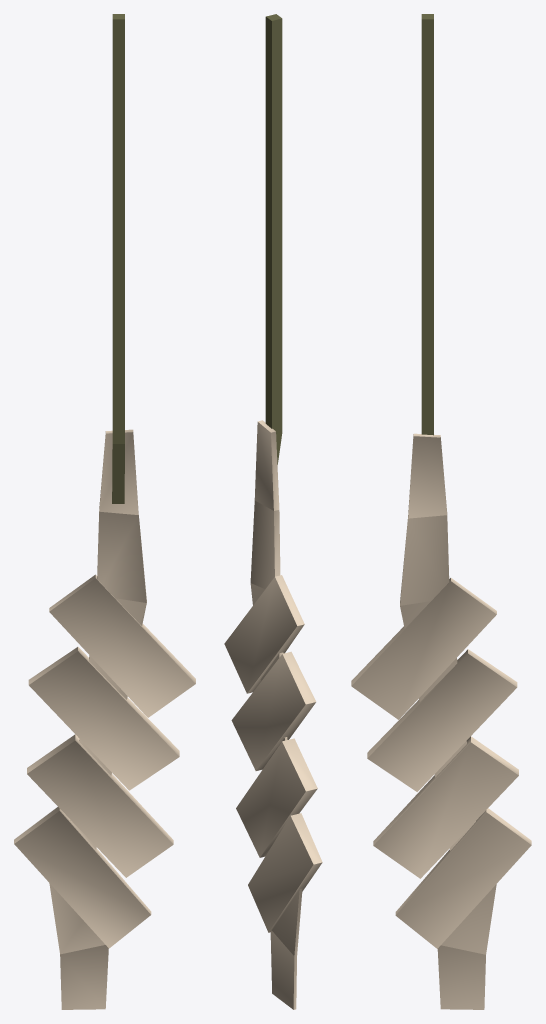
File: Detail_1  Asia.fbx
The picture shows the model from 3 angles, left to right: view 1: azimuth 90°, elevation 25°; view 2: azimuth 210°, elevation 25°; view 3: azimuth 270°, elevation 25°; orthographic projection. The views are drawn at different scales.
Parts seen in each view (by area): view 1: Detail_1; view 2: Detail_1; view 3: Detail_1.
Part boxes in pixels (x1,y1,x2,y2): Detail_1: (14,14,195,1009); Detail_1: (224,14,322,1009); Detail_1: (351,14,531,1009).
Bounding box in the file's own units: 0.0072 × 0.3619 × 0.0598.
